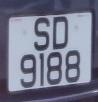1: (37, 51, 48, 88)
8: (46, 50, 66, 87), (64, 49, 83, 86)
9: (18, 53, 39, 90)
D: (49, 12, 71, 53)
S: (31, 13, 53, 53)
